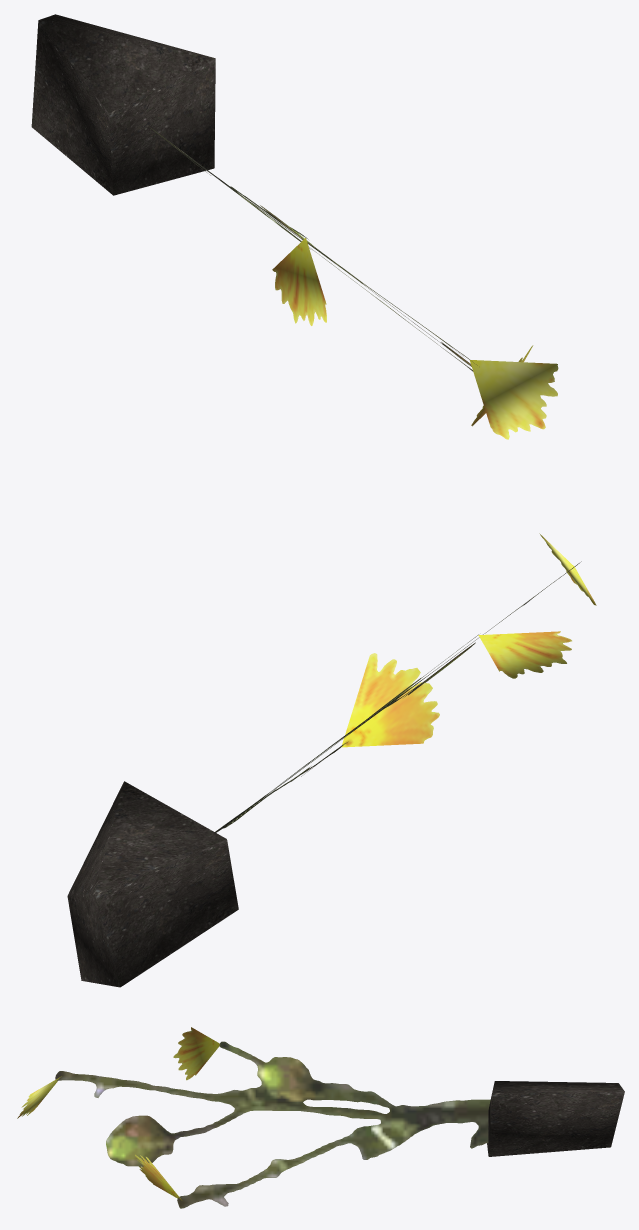
The model's file is com_flower_yellow3_LOD2.obj.
3 views of the same model, one above another, from view 1: azimuth 30°, elevation 25°; view 2: azimuth 150°, elevation 25°; view 3: azimuth 270°, elevation 25° (orthographic). The views are drawn at different scales.
Visible parts, largest first — view 1: mtl_plastic_bucket_soil, mtl_gardenflowers; view 2: mtl_plastic_bucket_soil, mtl_gardenflowers; view 3: mtl_gardenflowers, mtl_plastic_bucket_soil.
Boxes of the visible parts, x1,y1,x2,y2 form: mtl_plastic_bucket_soil: (31, 14, 215, 195); mtl_gardenflowers: (148, 126, 558, 439); mtl_plastic_bucket_soil: (67, 781, 238, 987); mtl_gardenflowers: (215, 533, 596, 832); mtl_gardenflowers: (17, 1027, 490, 1208); mtl_plastic_bucket_soil: (487, 1081, 624, 1156).
Bounding box in the file's own units: 13.23 × 9.25 × 41.44.
